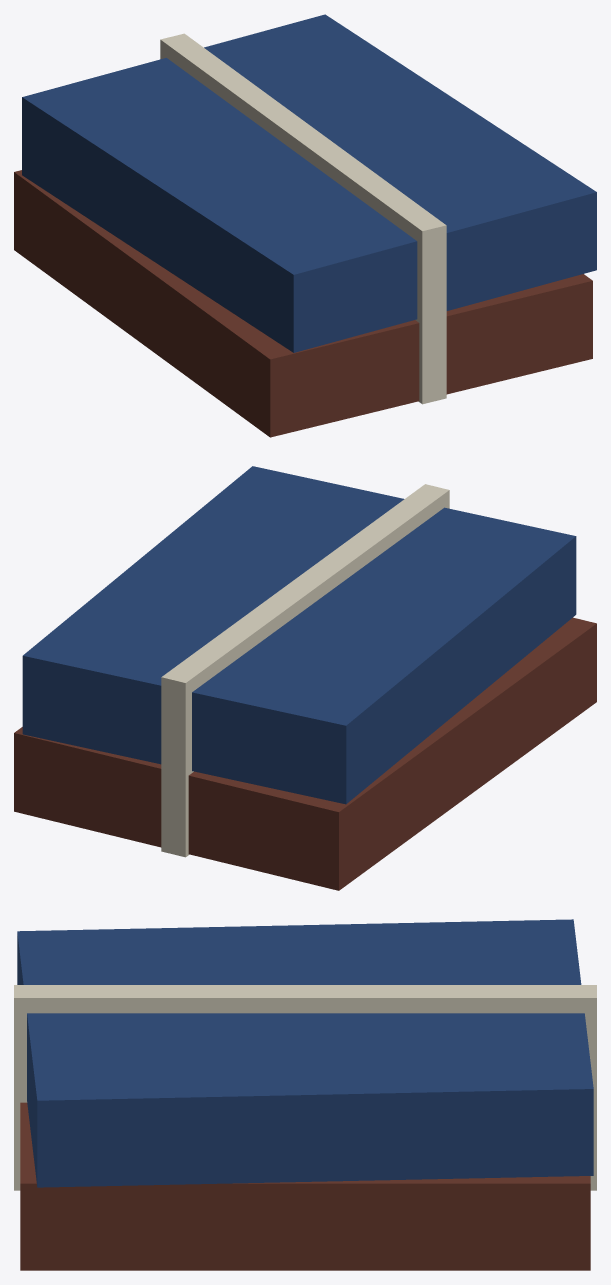
File: good-books.glb
3 renders of one model, top to bottom at view 1: azimuth 30°, elevation 25°; view 2: azimuth 150°, elevation 25°; view 3: azimuth 270°, elevation 25°, orthographic. The views are drawn at different scales.
Parts seen in each view (by area): view 1: #2c4a7a, #6a3a2e, #d8d2c0_noshadow; view 2: #2c4a7a, #6a3a2e, #d8d2c0_noshadow; view 3: #2c4a7a, #6a3a2e, #d8d2c0_noshadow.
Boxes of the visible parts, x1,y1,x2,y2 form: #2c4a7a: (22,14,596,352); #6a3a2e: (14,170,592,437); #d8d2c0_noshadow: (160,33,446,404); #2c4a7a: (22,466,576,804); #6a3a2e: (14,617,596,890); #d8d2c0_noshadow: (161,484,449,857); #2c4a7a: (17,919,593,1187); #6a3a2e: (20,1102,590,1270); #d8d2c0_noshadow: (14,985,596,1190).
Bounding box in the file's own units: 0.1658 × 0.082 × 0.225.
